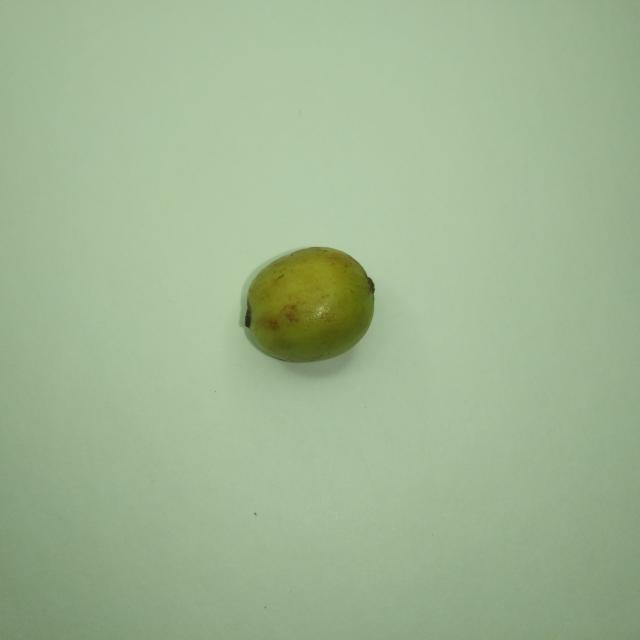Sano: (242, 247, 374, 362)
